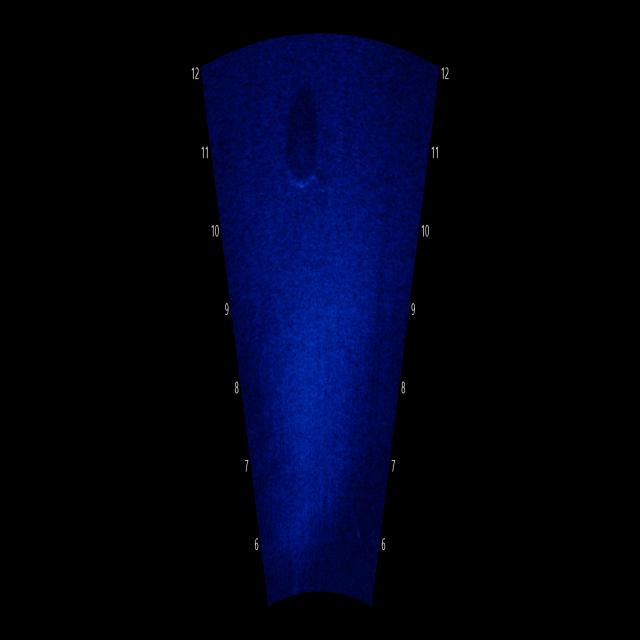circle: (278, 94, 328, 204)
